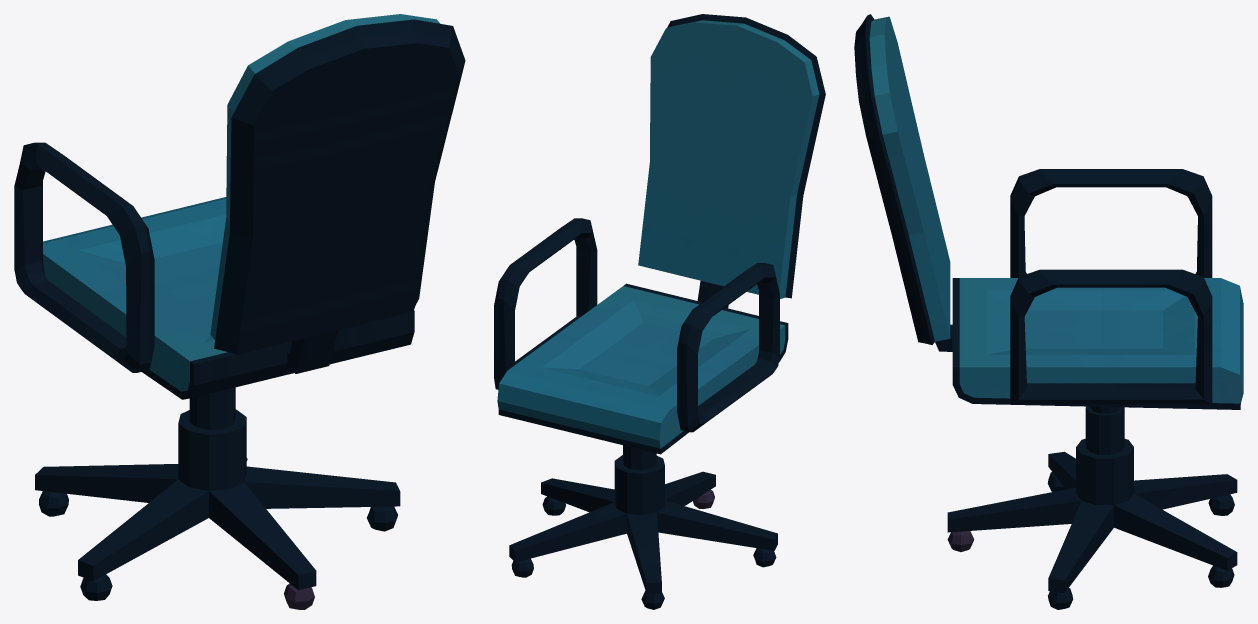
File: chair.fbx
The picture shows the model from 3 angles, left to right: view 1: azimuth 30°, elevation 25°; view 2: azimuth 150°, elevation 25°; view 3: azimuth 270°, elevation 25°; orthographic projection. The views are drawn at different scales.
Visible parts, largest first — view 1: Cylinder; view 2: Cylinder; view 3: Cylinder.
Part boxes in pixels (left/top/right/bottom): Cylinder: left=14, top=14, right=465, bottom=609; Cylinder: left=494, top=14, right=825, bottom=609; Cylinder: left=854, top=14, right=1243, bottom=609.
Size of the model in its own units: 156 by 293 by 199.
